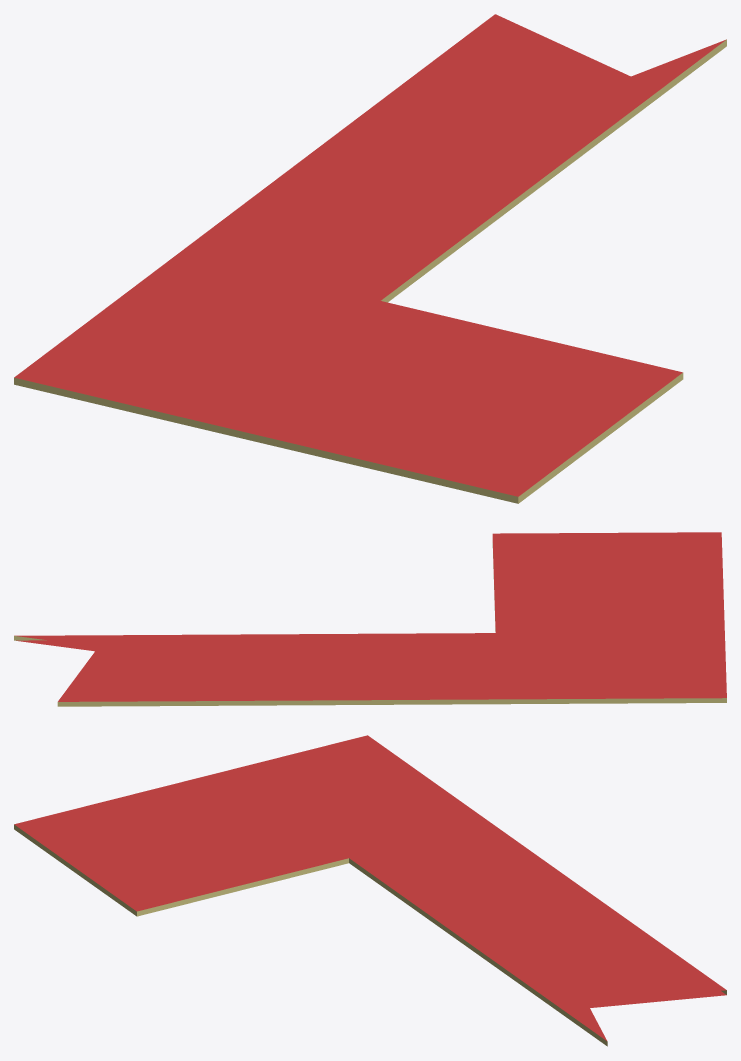
3 renders of one model, top to bottom at view 1: azimuth 30°, elevation 25°; view 2: azimuth 150°, elevation 25°; view 3: azimuth 270°, elevation 25°, orthographic. The views are drawn at different scales.
Size of the model in its own units: 13.07 by 12.85 by 0.1.
